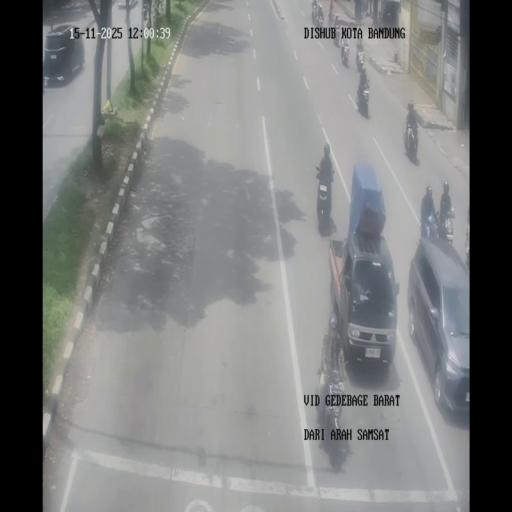3: (330, 224, 396, 372)
car: (408, 236, 470, 418), (44, 24, 86, 86)
truck: (318, 353, 346, 459), (316, 167, 334, 229), (437, 204, 455, 244), (403, 120, 419, 162), (420, 209, 438, 240), (356, 81, 370, 118), (464, 221, 470, 269), (340, 40, 350, 68), (356, 50, 365, 73), (334, 15, 341, 44), (316, 4, 324, 26), (328, 6, 334, 26), (311, 4, 317, 24), (362, 0, 369, 17), (356, 39, 364, 52), (378, 9, 384, 22)
